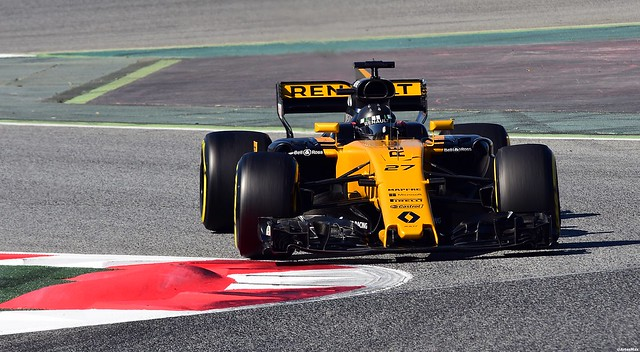F1 Car: (198, 57, 569, 267)
